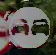No overtake: (3, 3, 55, 49)
